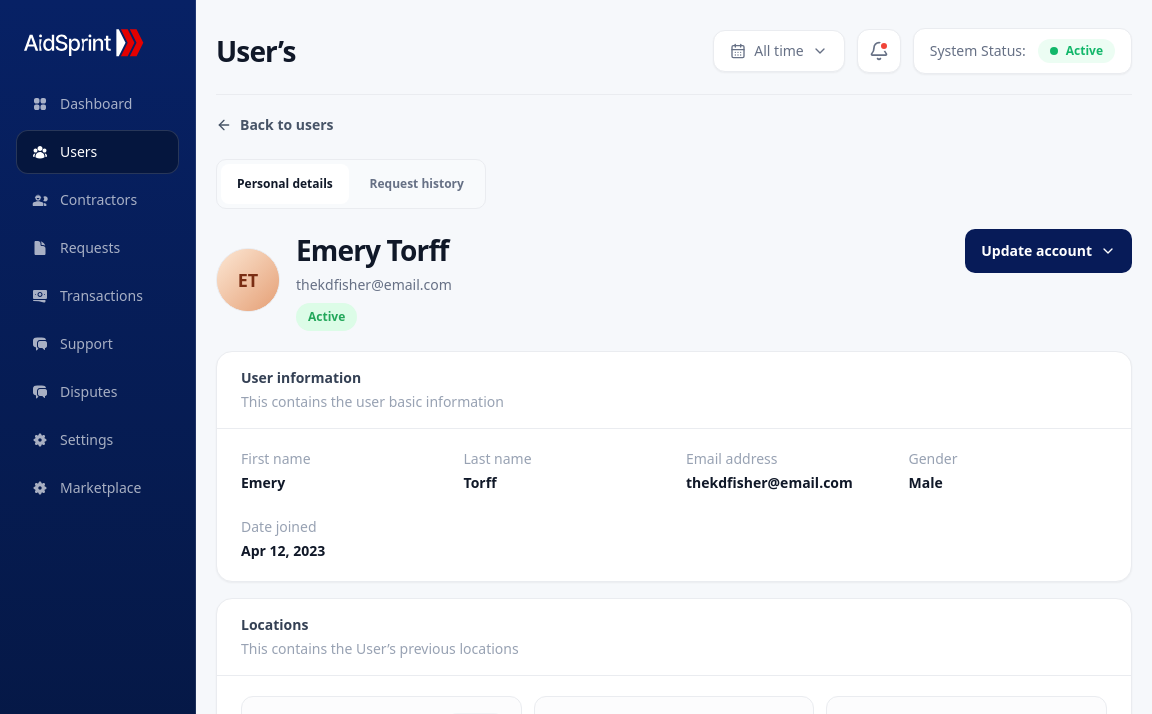
Test case: UserDetailsPage › opens and closes the update account modal
Click the button "Update account" at (1049, 251), box [965,229,1132,273]
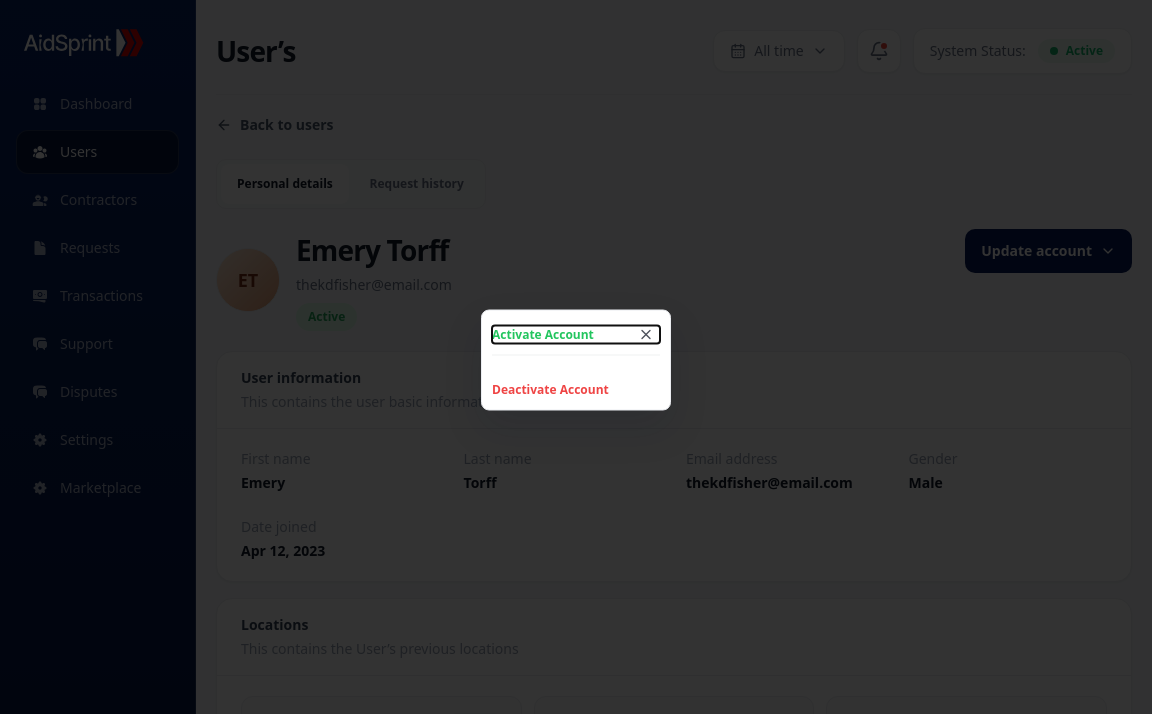
Check: the button "Activate Account" is shown, box [492,326,660,344]
Check: the button "Deactivate Account" is shown, box [492,380,660,398]
Click the button named "Close" at (646, 334), box [638,326,654,342]
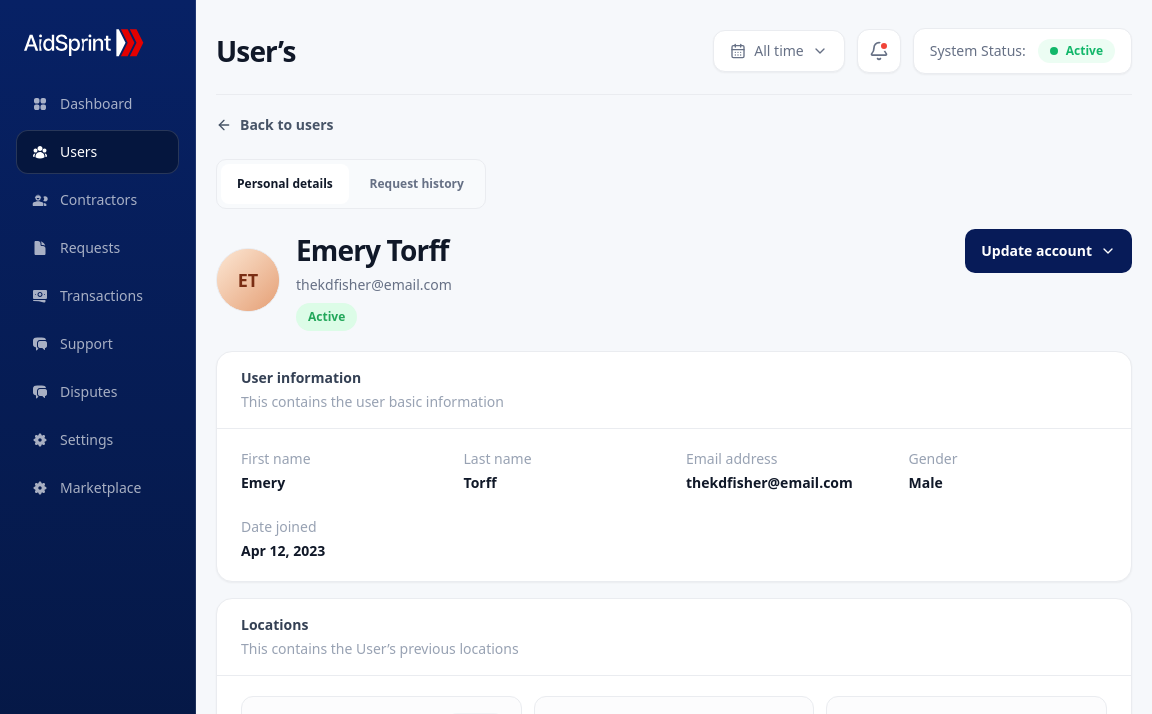
Check: the button "Activate Account" is gone
